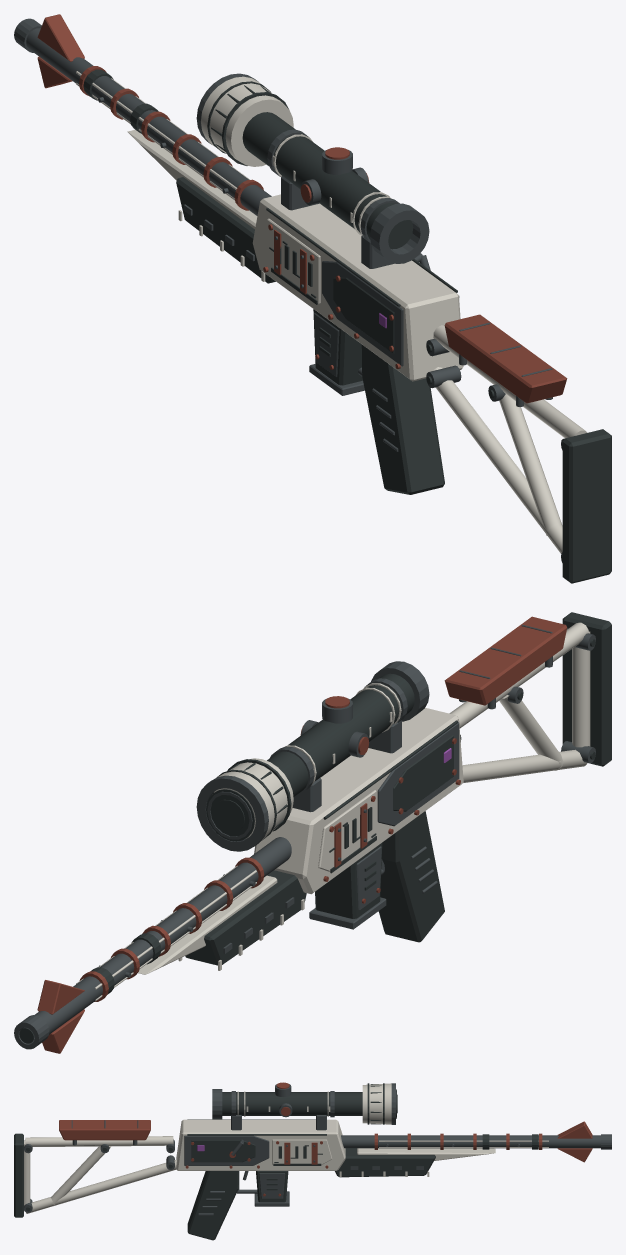
Rendered from sniper_3.glb.
3 views of the same model, one above another, from view 1: azimuth 30°, elevation 25°; view 2: azimuth 150°, elevation 25°; view 3: azimuth 270°, elevation 25° (orthographic). The views are drawn at different scales.
Visible parts, largest first — view 1: Weapon_sniper_v1; view 2: Weapon_sniper_v1; view 3: Weapon_sniper_v1.
Part boxes in pixels (left/top/right/bottom): Weapon_sniper_v1: left=14, top=14, right=611, bottom=583; Weapon_sniper_v1: left=14, top=612, right=611, bottom=1053; Weapon_sniper_v1: left=14, top=1082, right=611, bottom=1240.
Bounding box in the file's own units: 0.0928 × 0.3041 × 1.09.
